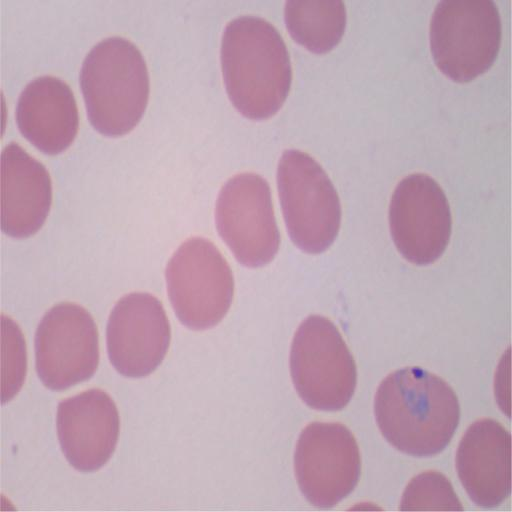Infected: (374, 366, 461, 458)
Uninfected: (222, 17, 291, 119), (80, 36, 149, 137), (164, 237, 235, 331), (278, 149, 341, 254), (288, 315, 357, 410), (214, 171, 279, 268), (32, 301, 101, 389), (294, 419, 360, 510), (429, 0, 501, 81), (390, 175, 453, 265), (107, 293, 170, 380), (0, 140, 53, 239), (57, 391, 119, 471), (17, 77, 76, 153), (286, 0, 347, 53)
